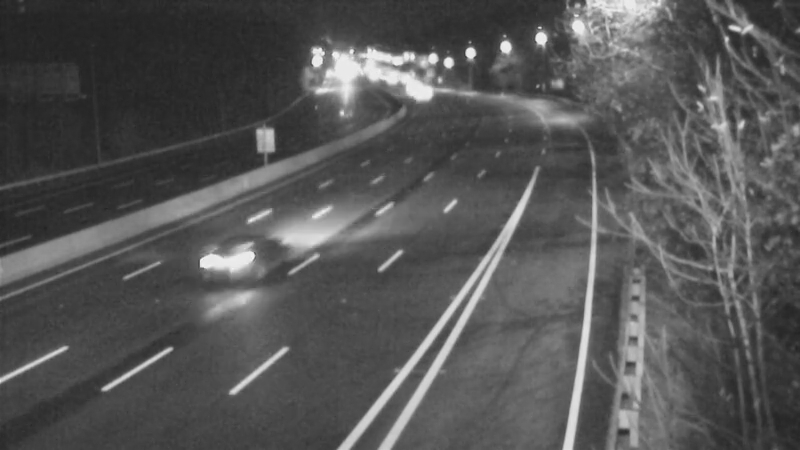vehicle: (195, 218, 275, 298), (387, 62, 437, 112), (394, 67, 444, 117)
